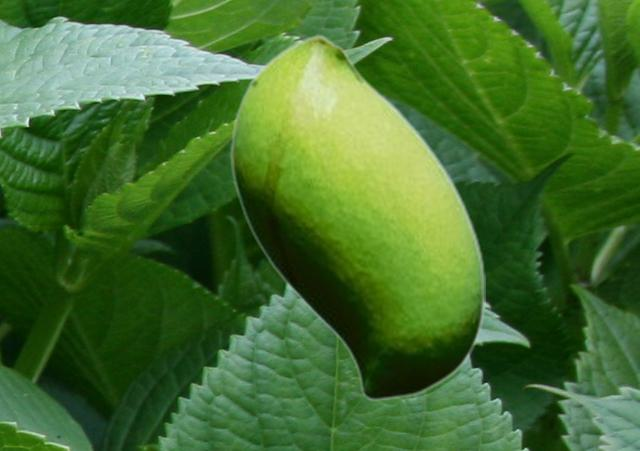green_mango: (229, 33, 484, 400)
